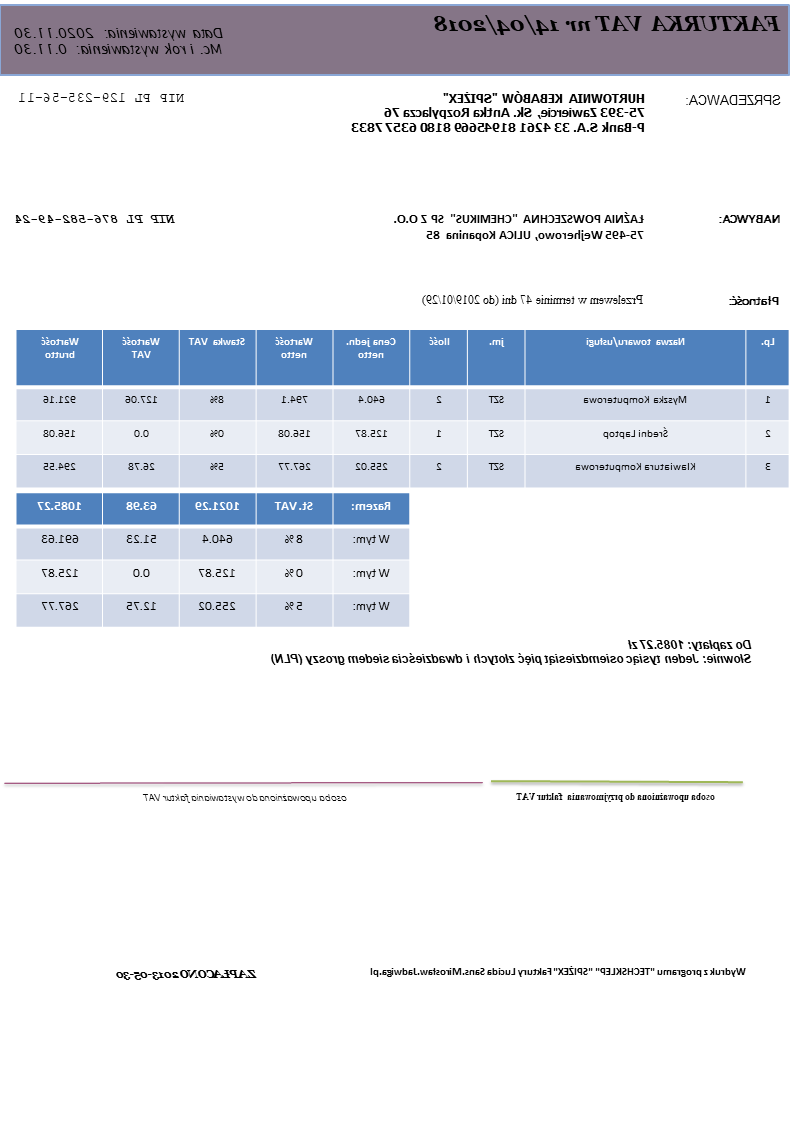Table: (14, 328, 792, 487), (16, 492, 412, 628)
TextBox: (268, 636, 755, 670), (350, 91, 647, 138), (429, 10, 784, 40), (391, 211, 648, 243), (9, 24, 227, 58), (367, 963, 750, 980), (419, 291, 646, 308), (513, 789, 721, 805), (14, 210, 178, 228), (142, 790, 350, 804), (17, 90, 188, 107), (113, 966, 260, 984), (684, 90, 784, 108), (718, 211, 785, 226), (726, 293, 784, 309)
